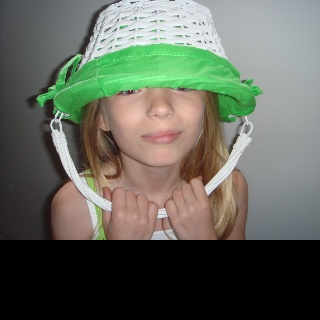without_mask: (100, 85, 205, 166)
